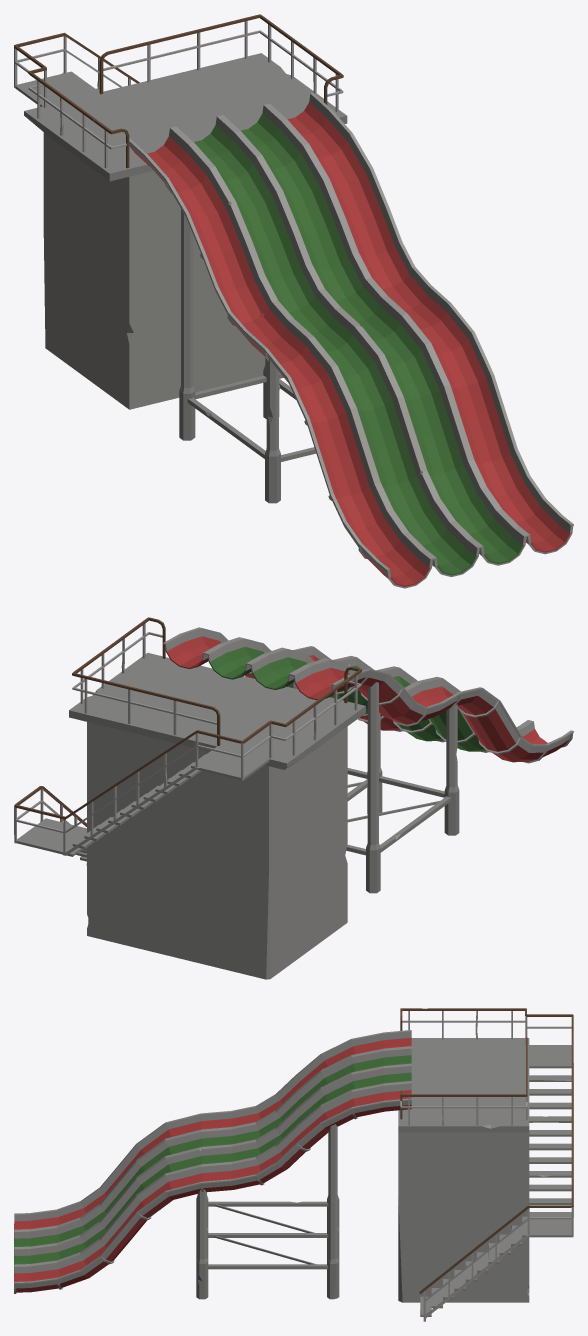
File: SM_Props_City_Beach_WaterSlide_02.fbx
3 views of the same model, one above another, from view 1: azimuth 30°, elevation 25°; view 2: azimuth 150°, elevation 25°; view 3: azimuth 270°, elevation 25° (orthographic). The views are drawn at different scales.
Visible parts, largest first — view 1: SM_Props_City_Beach_WaterSlide_02; view 2: SM_Props_City_Beach_WaterSlide_02; view 3: SM_Props_City_Beach_WaterSlide_02.
Part boxes in pixels (x1,y1,x2,y2): SM_Props_City_Beach_WaterSlide_02: (14, 14, 573, 588); SM_Props_City_Beach_WaterSlide_02: (14, 617, 573, 979); SM_Props_City_Beach_WaterSlide_02: (14, 1008, 573, 1321).
Size of the model in its own units: 543 by 542 by 1285.
